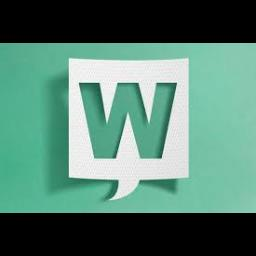w: (72, 77, 184, 165)
